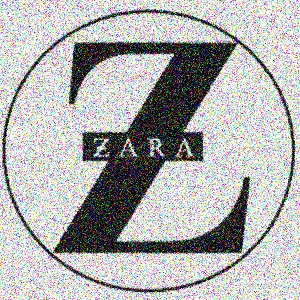zara: (154, 68, 242, 202)
